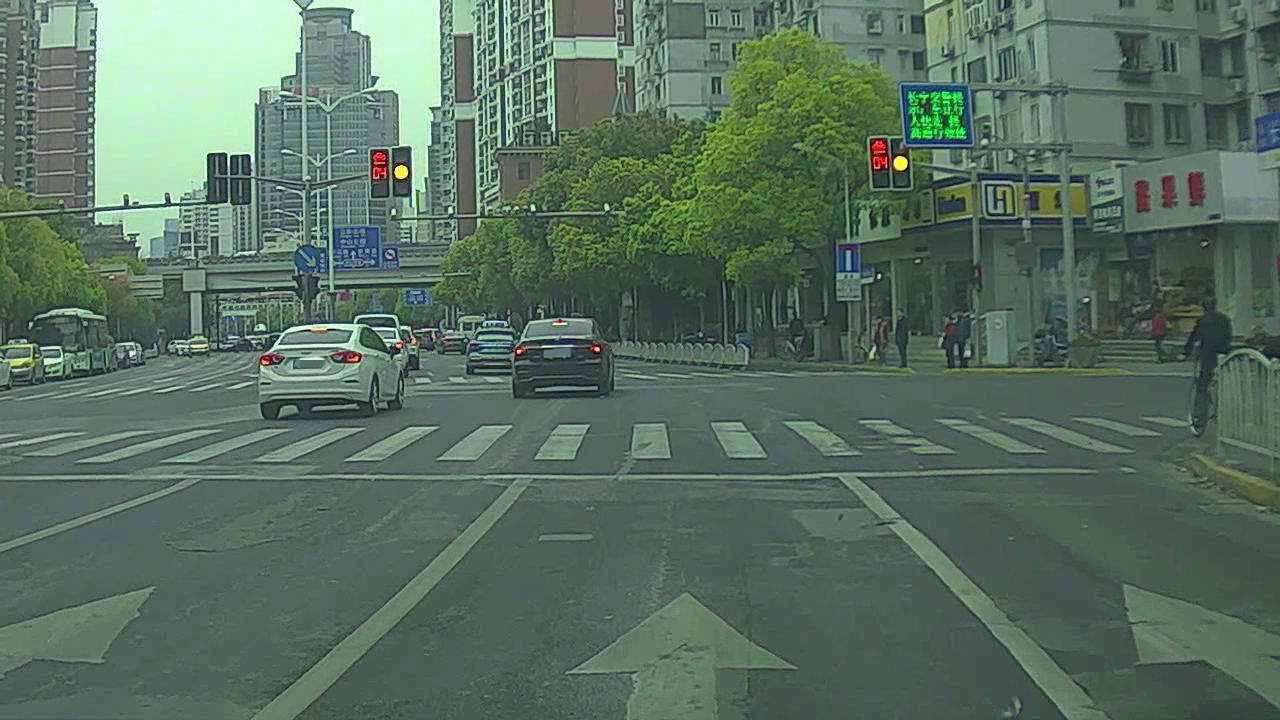traffic_light: (389, 144, 412, 196), (870, 137, 892, 190), (368, 150, 391, 200), (891, 138, 913, 188)
